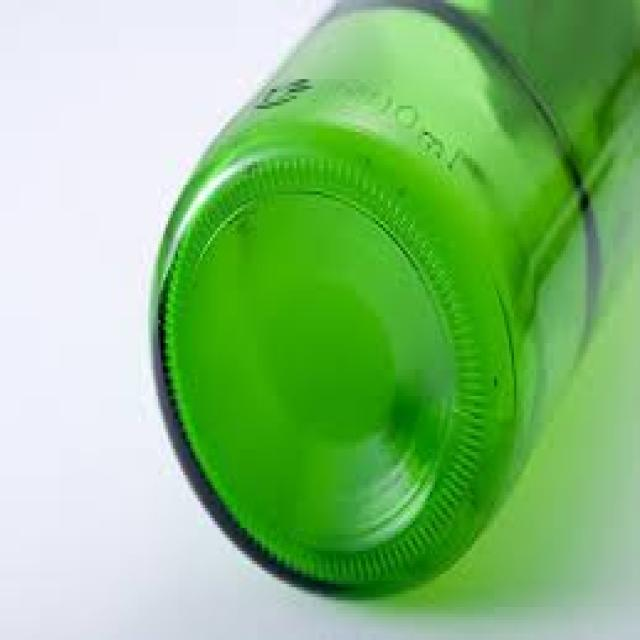glass: (146, 0, 637, 597)
